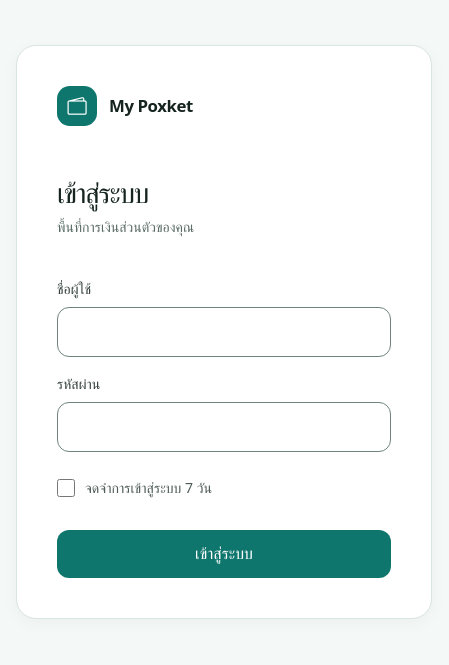
Test case: LoginPage › shows code-backed validation without submitting blank credentials
Click the button "เข้าสู่ระบบ" at [224, 554], box [57,530,391,578]
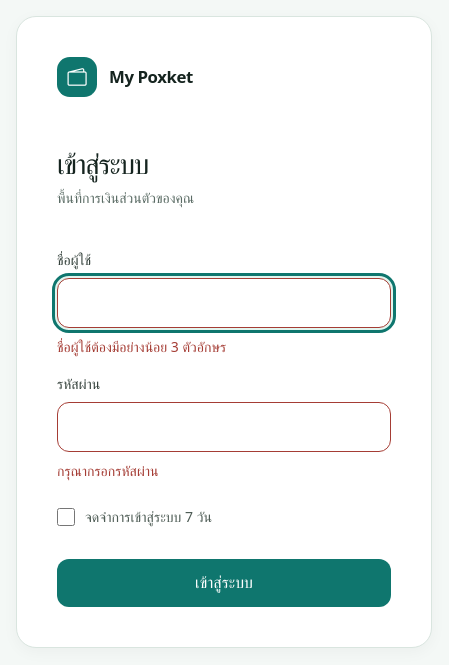
expect the text "ชื่อผู้ใช้ต้องมีอย่างน้อย 3 ตัวอักษร" is shown: met, box [57,337,226,356]
expect the text "กรุณากรอกรหัสผ่าน" is shown: met, box [57,461,158,480]
